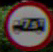Heavy Vehicles: (5, 3, 48, 42)
